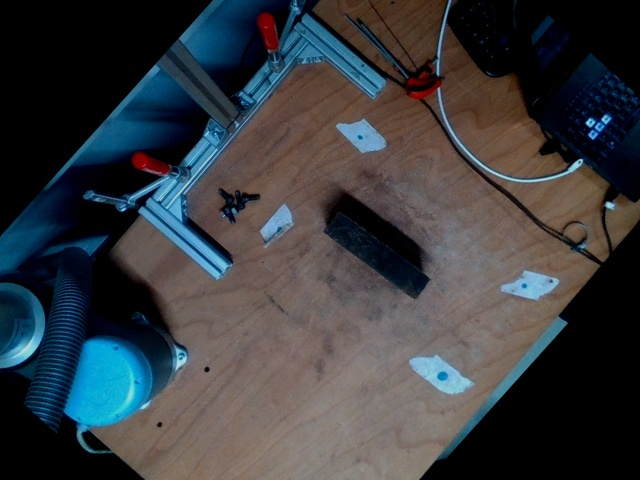brick-side: (326, 211, 432, 298)
